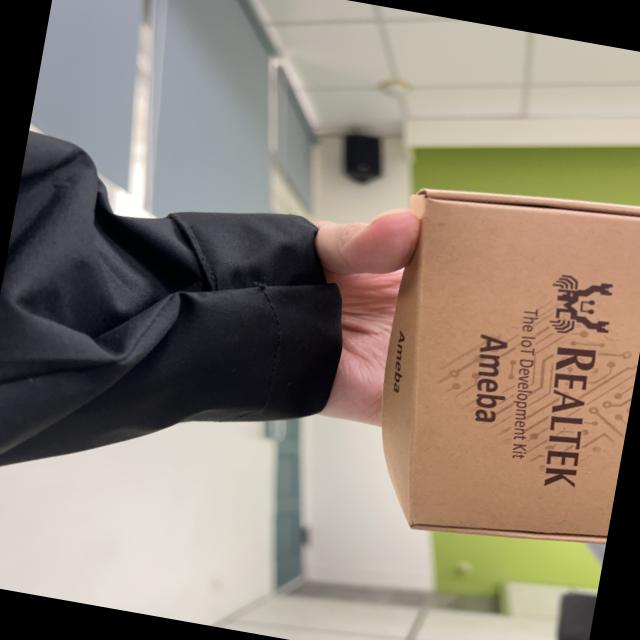box: (331, 157, 640, 566)
